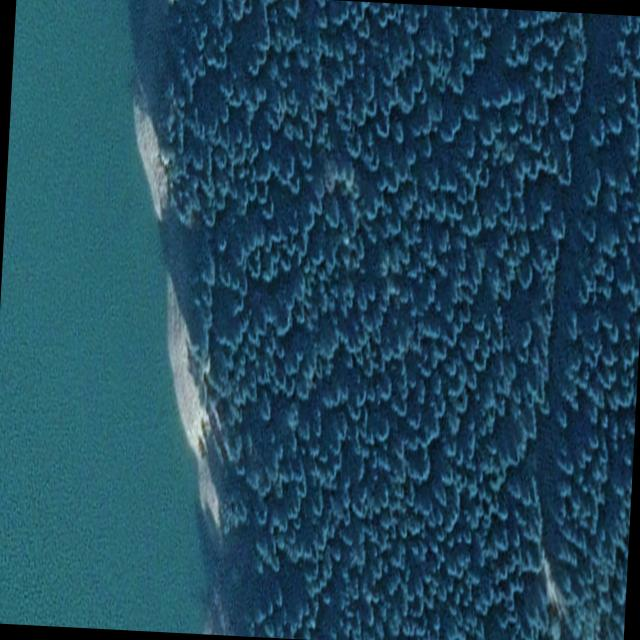tree: (131, 0, 640, 640)
